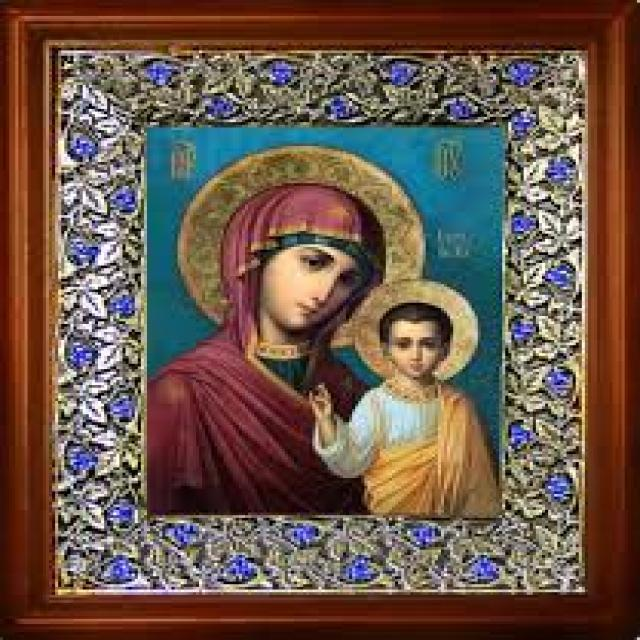mother of god: (151, 142, 498, 514)
